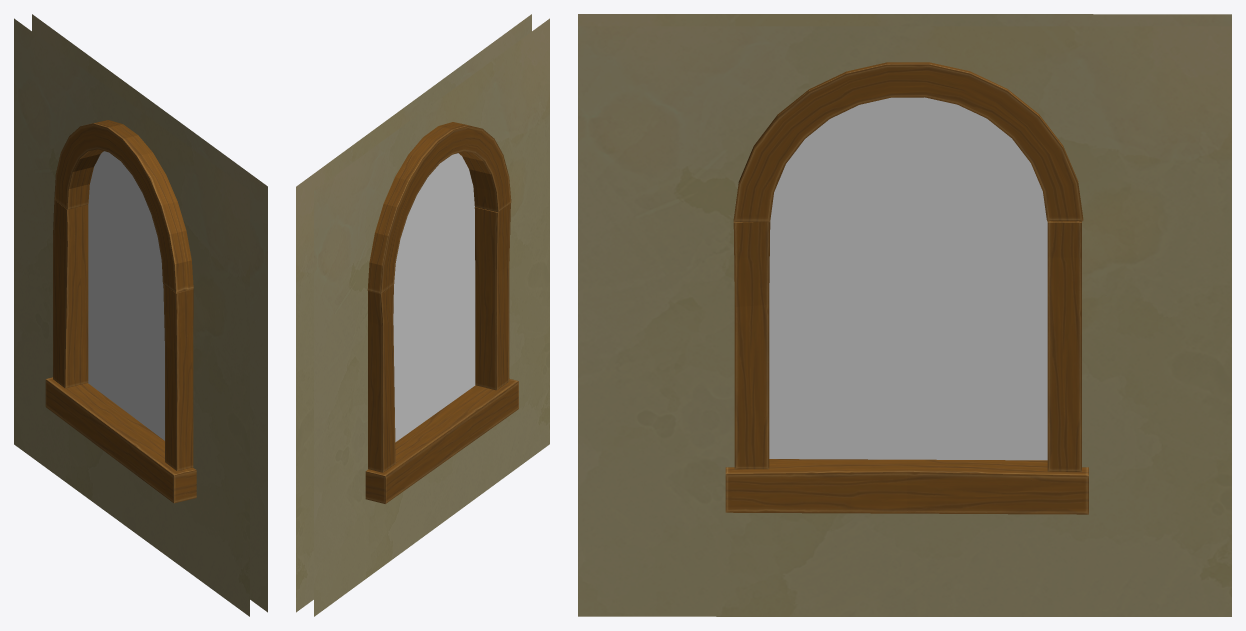
The model's file is SM_House_Roof_01_Middle_Tiling_Window_02.fbx.
The picture shows the model from 3 angles, left to right: view 1: azimuth 30°, elevation 25°; view 2: azimuth 150°, elevation 25°; view 3: azimuth 270°, elevation 25°; orthographic projection. The views are drawn at different scales.
Parts seen in each view (by area): view 1: SM_House_Roof_01_Middle_Tiling_Window_02; view 2: SM_House_Roof_01_Middle_Tiling_Window_02; view 3: SM_House_Roof_01_Middle_Tiling_Window_02.
Boxes of the visible parts, left/top/right/bottom form: SM_House_Roof_01_Middle_Tiling_Window_02: left=14, top=14, right=267, bottom=616; SM_House_Roof_01_Middle_Tiling_Window_02: left=296, top=14, right=549, bottom=616; SM_House_Roof_01_Middle_Tiling_Window_02: left=578, top=14, right=1231, bottom=616.
Size of the model in its own units: 0.2953 by 2.26 by 2.27.
